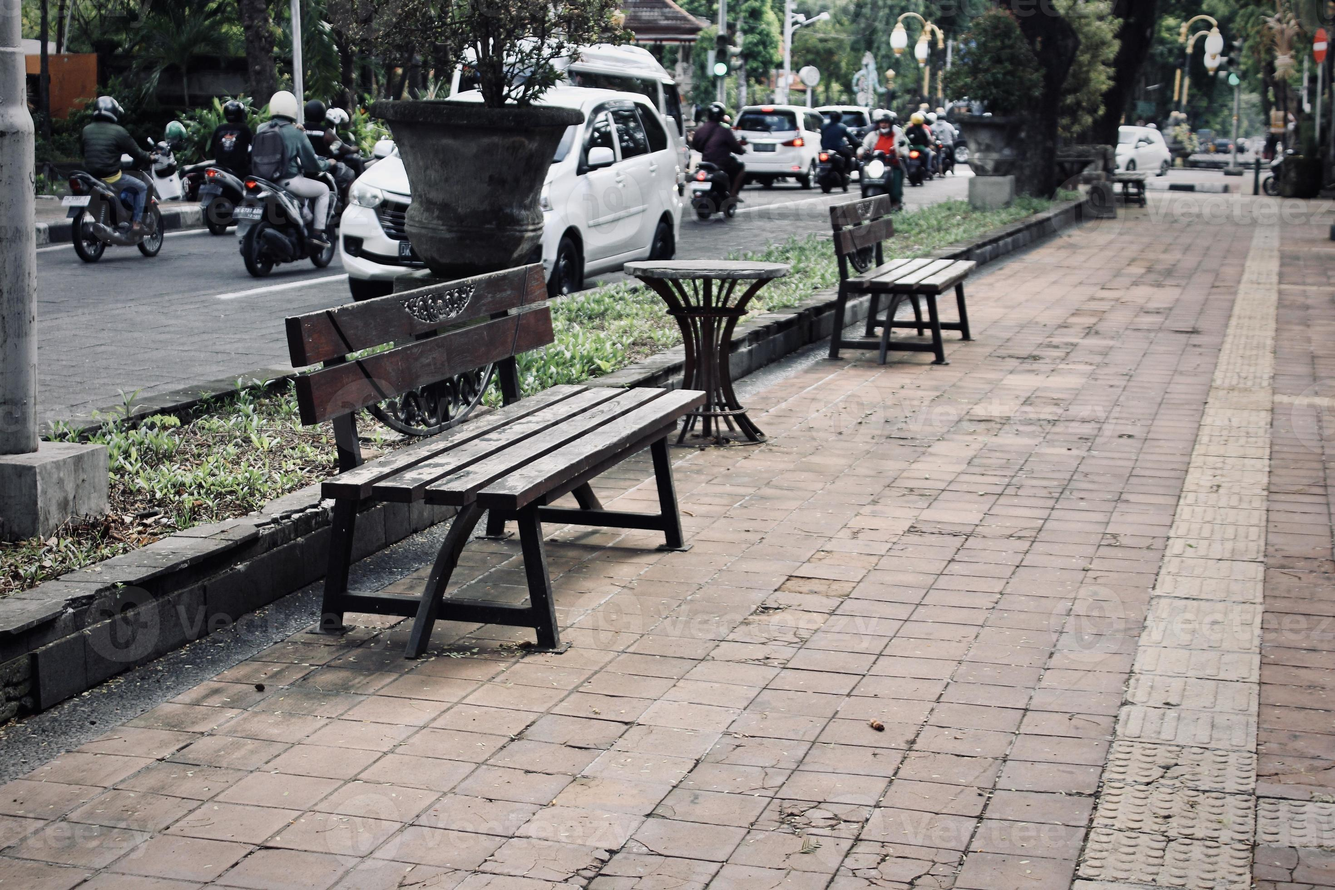Car: (550, 76, 701, 270)
Chair: (260, 246, 708, 687), (819, 188, 998, 389)
Motorcycle: (217, 167, 343, 271), (63, 168, 175, 264), (846, 152, 920, 219)
